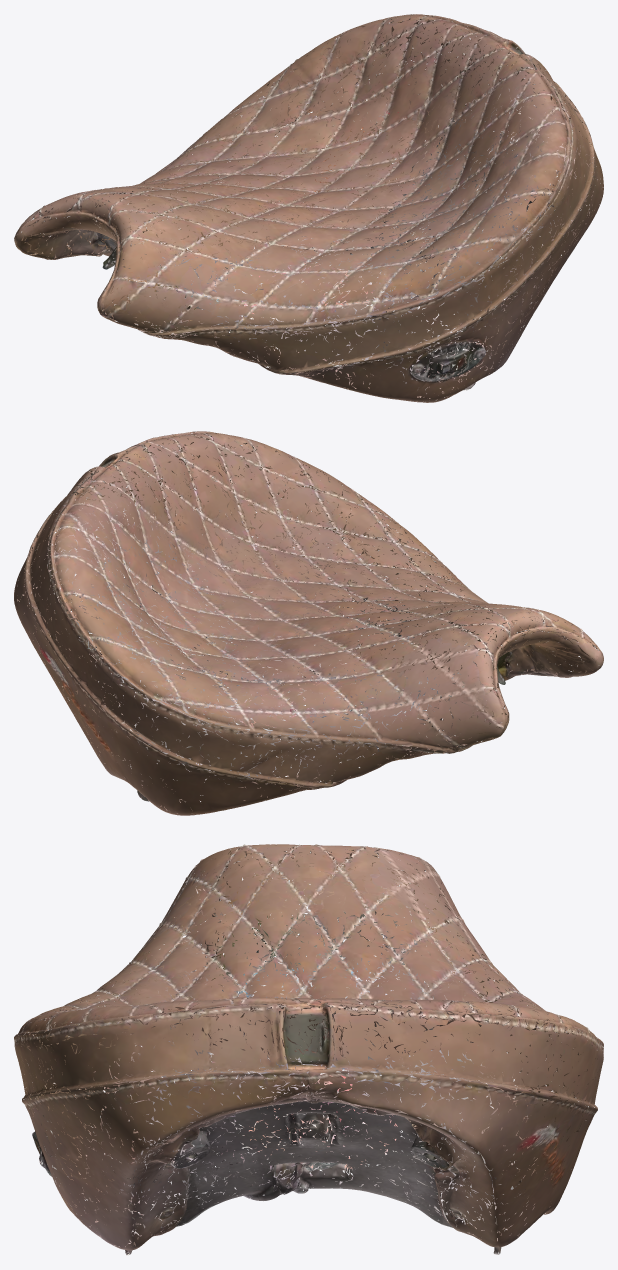
Rendered from sella_corbin.glb.
The picture shows the model from 3 angles, top to bottom: view 1: azimuth 30°, elevation 25°; view 2: azimuth 150°, elevation 25°; view 3: azimuth 270°, elevation 25°; orthographic projection. The views are drawn at different scales.
Visible parts, largest first — view 1: ricambio; view 2: ricambio; view 3: ricambio.
Part boxes in pixels (x1=…): ricambio: x1=14, y1=14, x2=603, y2=402; ricambio: x1=14, y1=431, x2=603, y2=815; ricambio: x1=14, y1=844, x2=603, y2=1255.
Size of the model in its own units: 0.5 by 0.2529 by 0.4176.
1 material, 1 textured.
